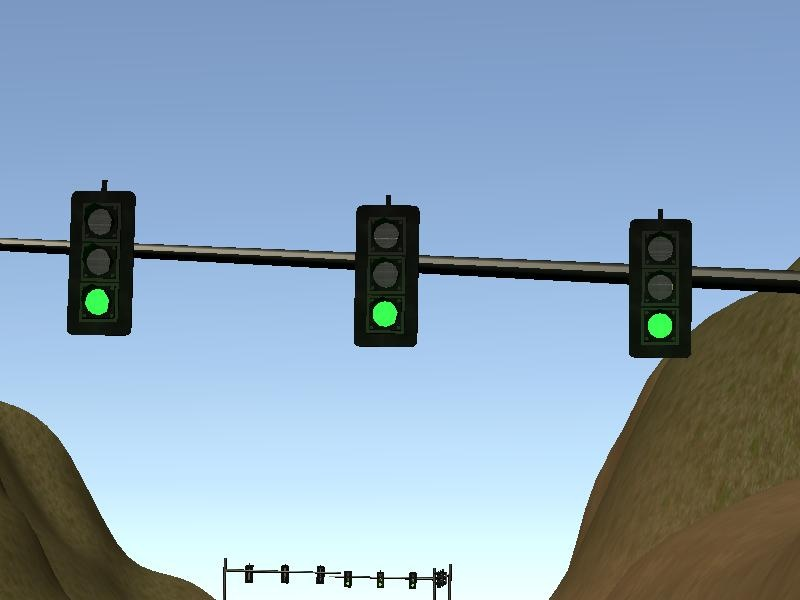GREEN: (64, 189, 135, 335), (351, 203, 420, 346), (625, 219, 693, 359)
